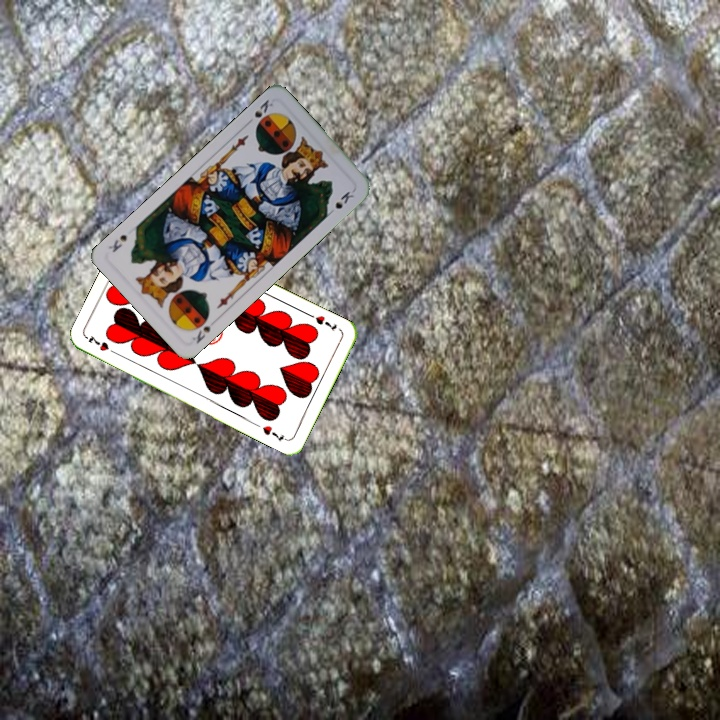H7: (83, 332, 121, 357), (311, 312, 340, 334)
SK: (242, 95, 276, 128), (188, 320, 214, 346)
